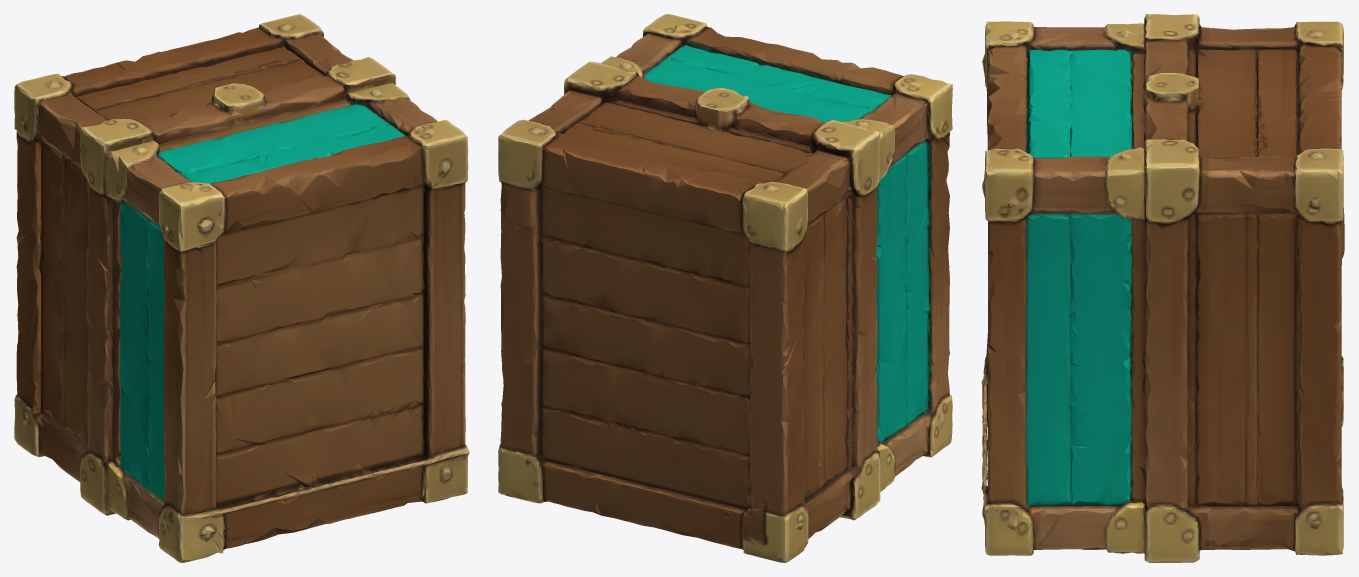
File: Prop_CrateStack.glb
3 views of the same model, side by side, from view 1: azimuth 30°, elevation 25°; view 2: azimuth 150°, elevation 25°; view 3: azimuth 270°, elevation 25° (orthographic). The views are drawn at different scales.
Visible parts, largest first — view 1: Prop_CrateStack; view 2: Prop_CrateStack; view 3: Prop_CrateStack.
Part boxes in pixels (x1,y1,x2,y2): Prop_CrateStack: (14,14,469,562); Prop_CrateStack: (498,14,952,562); Prop_CrateStack: (981,14,1344,562).
Bounding box in the file's own units: 0.8812 × 1.1 × 0.8821.
Materials: 1 (1 with a texture image).
